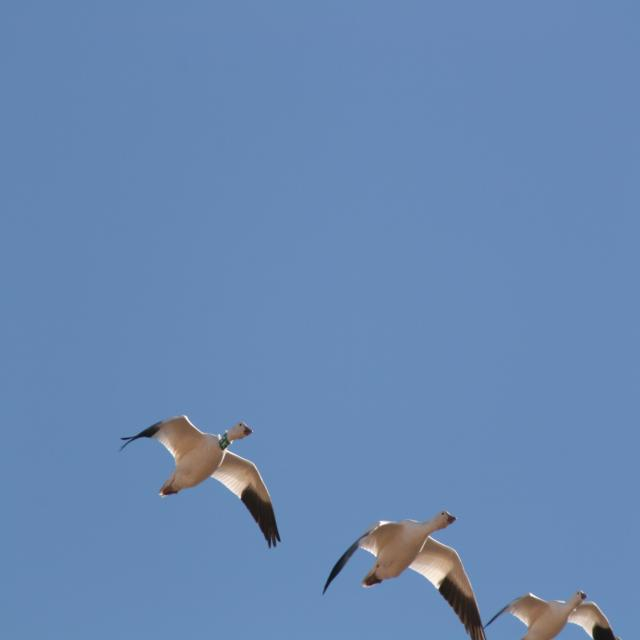bird: (111, 419, 285, 554), (313, 507, 472, 624), (476, 592, 624, 640)
